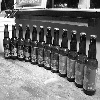beer: (33, 24, 47, 72)
